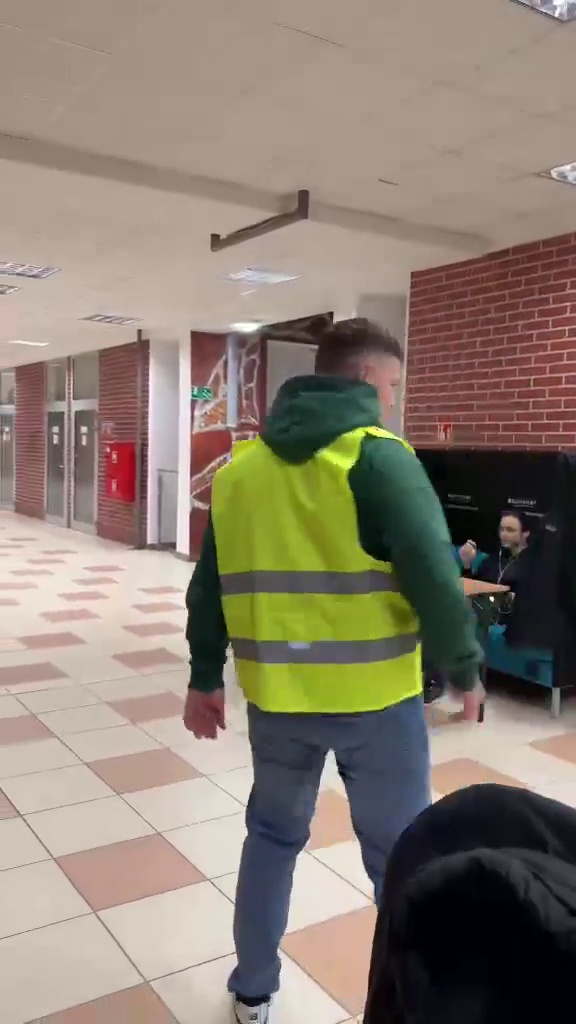no vest: (453, 489, 541, 649)
vest: (173, 303, 489, 1007)
